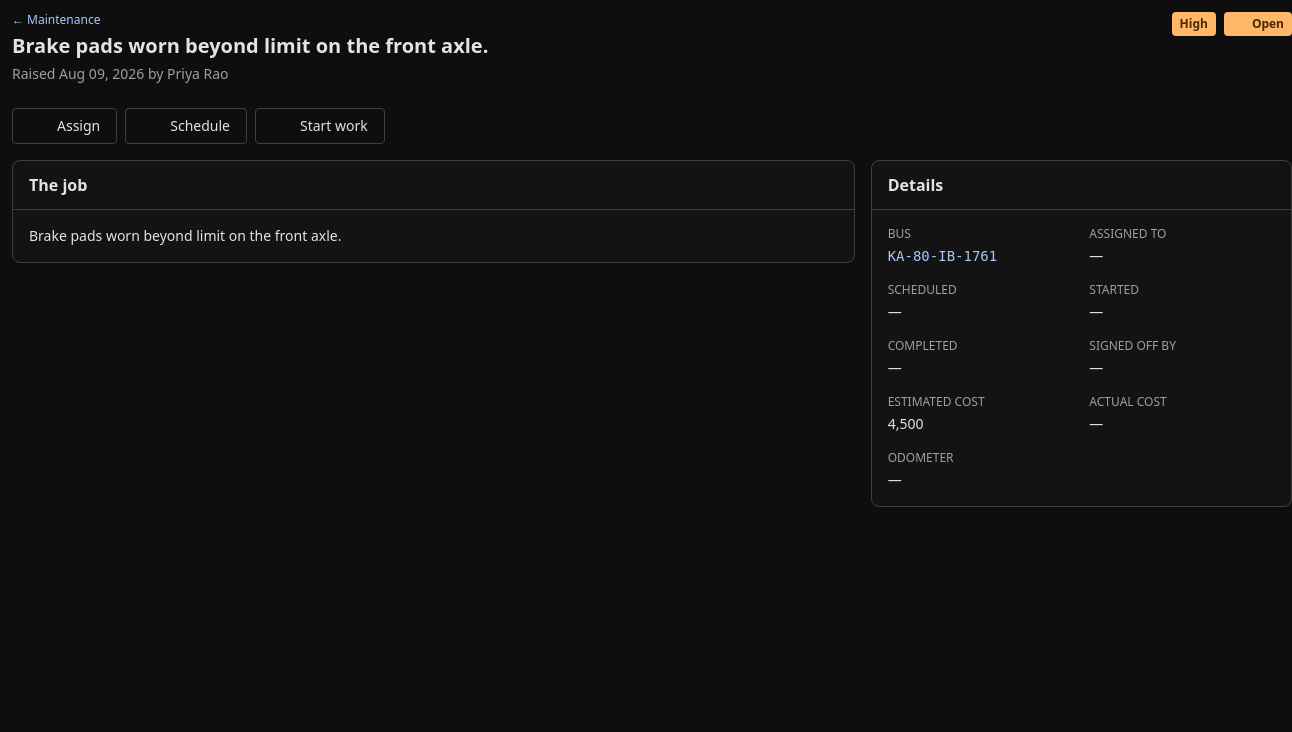
it: when the workshop server refuses › shows a 409 verbatim and changes nothing on screen
Expected: the heading "Brake pads worn beyond limit on the front axle." is shown, [12, 32, 488, 60]
Click the button "Start work": (320, 126) [255, 108, 385, 144]
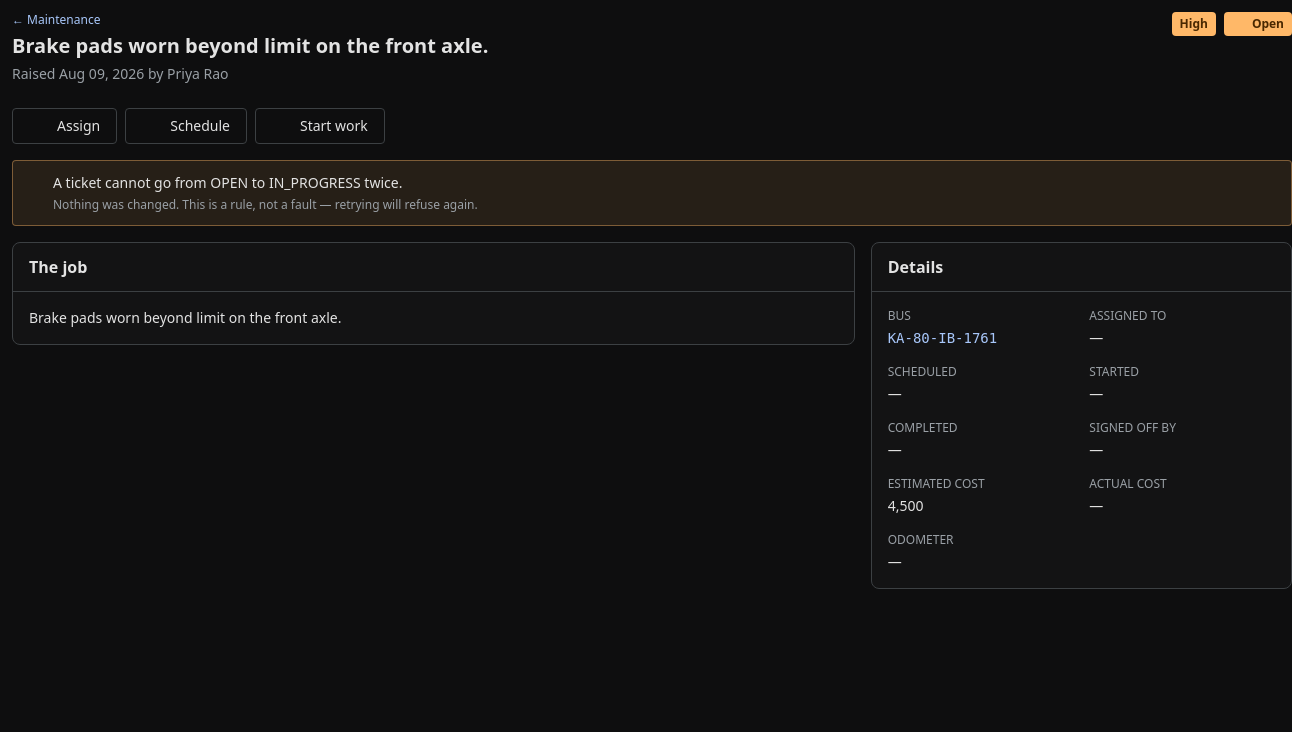
Expected: the text "A ticket cannot go from OPEN to IN_PROGRESS twice." is shown, [53, 173, 402, 192]
Expected: the text "Nothing was changed" is shown, [53, 196, 478, 213]
